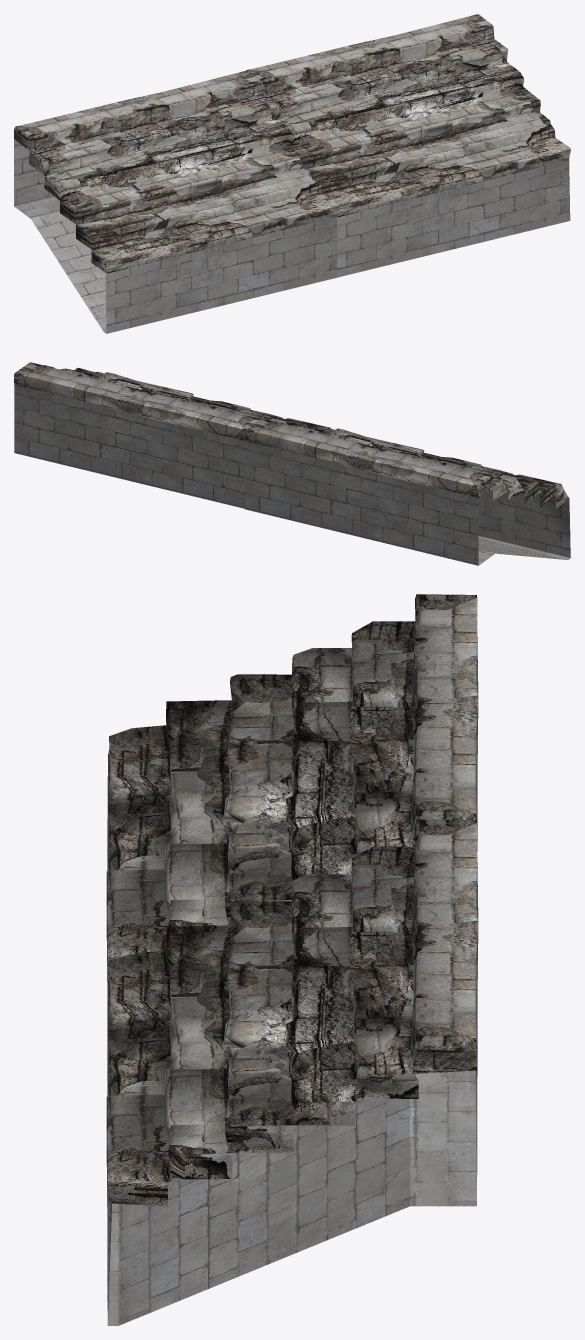
File: Stair4.fbx
The picture shows the model from 3 angles, top to bottom: view 1: azimuth 30°, elevation 25°; view 2: azimuth 150°, elevation 25°; view 3: azimuth 270°, elevation 25°; orthographic projection. The views are drawn at different scales.
Visible parts, largest first — view 1: LV_Nigraturis_Stairs02_SM_HSH; view 2: LV_Nigraturis_Stairs02_SM_HSH; view 3: LV_Nigraturis_Stairs02_SM_HSH.
Part boxes in pixels (x1,y1,x2,y2): LV_Nigraturis_Stairs02_SM_HSH: (14, 14, 570, 333); LV_Nigraturis_Stairs02_SM_HSH: (14, 362, 570, 565); LV_Nigraturis_Stairs02_SM_HSH: (106, 594, 478, 1325).
Bounding box in the file's own units: 2.12 × 0.6096 × 0.7327.
Materials: 2 (2 with a texture image).
